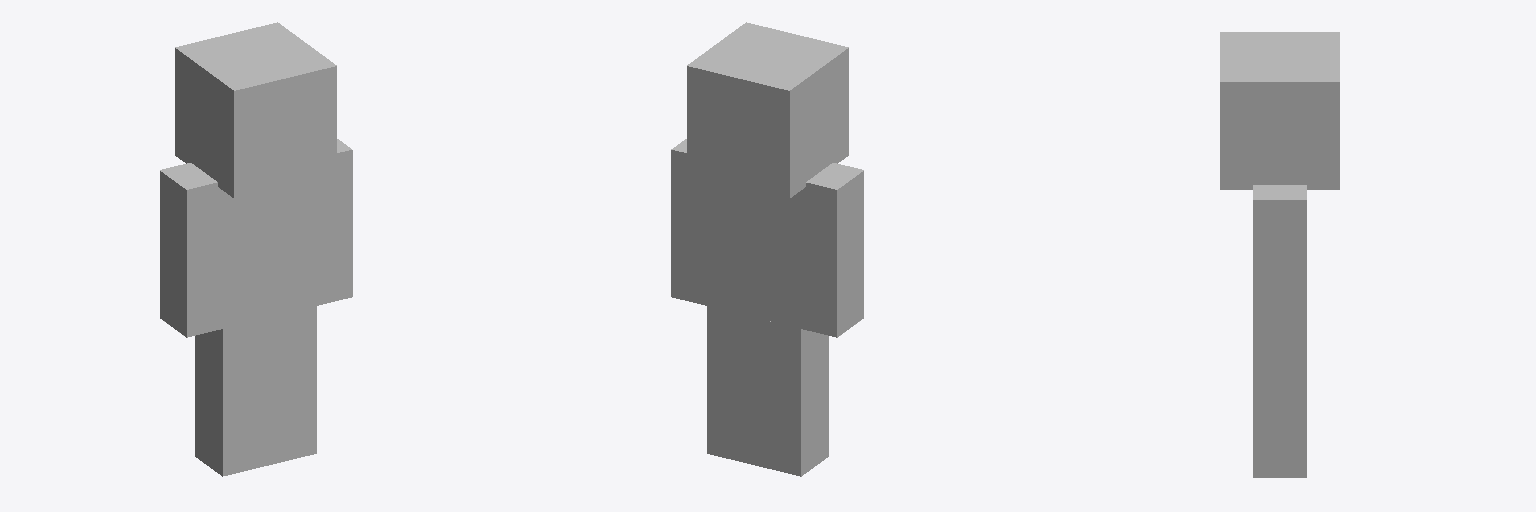
The model's file is character Ramirez WIP.obj.
The picture shows the model from 3 angles: view 1: azimuth 30°, elevation 25°; view 2: azimuth 150°, elevation 25°; view 3: azimuth 270°, elevation 25°; orthographic projection.
Visible parts, largest first — view 1: Player_Cube; view 2: Player_Cube; view 3: Player_Cube.
Part boxes in pixels (bbox=[...]): Player_Cube: bbox=[160, 22, 352, 476]; Player_Cube: bbox=[671, 22, 863, 476]; Player_Cube: bbox=[1220, 32, 1339, 477].
Bounding box in the file's own units: 7.41 × 17 × 4.6.